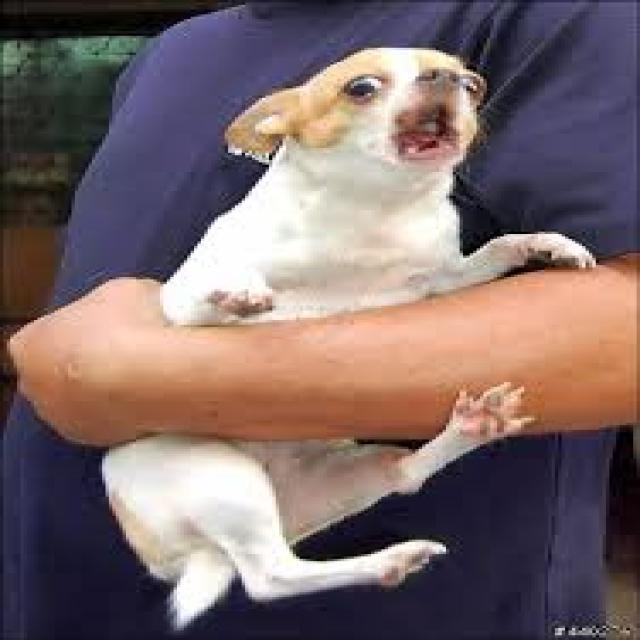Chihuahua: (221, 51, 488, 212)
